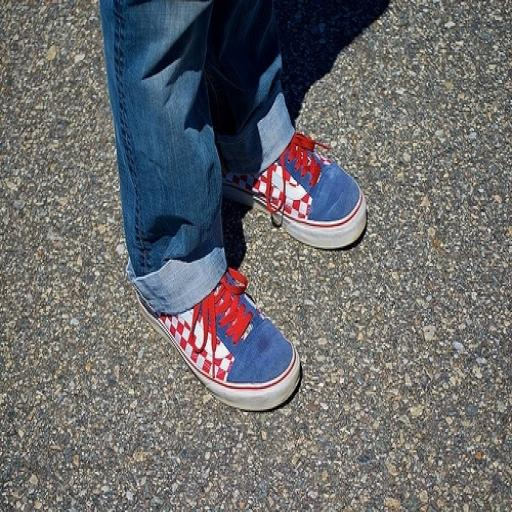shoe: (137, 269, 300, 411), (222, 132, 367, 249)
